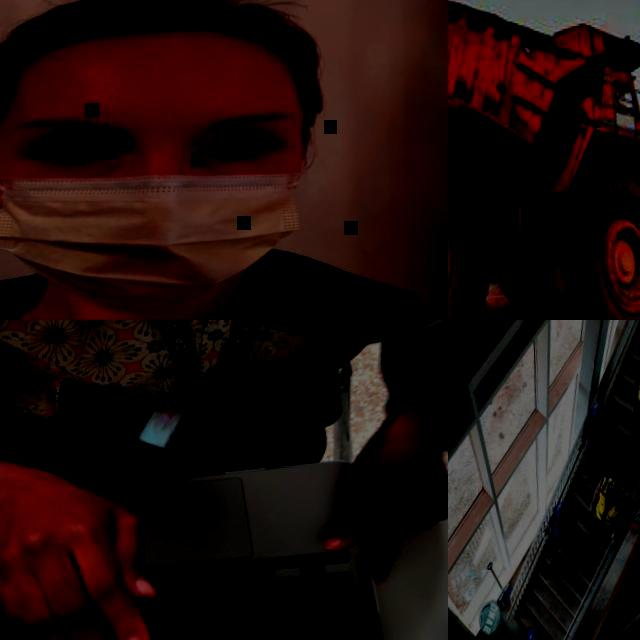helmet: (608, 478, 624, 504), (593, 402, 608, 427), (555, 503, 569, 525), (526, 632, 540, 640)
machinery: (448, 0, 640, 320)
mask: (0, 114, 321, 318)
no_helmet: (0, 0, 317, 96)
no_vest: (0, 320, 351, 417)
person: (0, 0, 448, 320), (0, 320, 448, 640), (576, 401, 622, 504), (575, 476, 632, 557), (542, 504, 580, 568), (623, 333, 640, 470), (523, 627, 546, 640)
vest: (594, 477, 631, 528), (586, 406, 616, 454), (554, 504, 576, 542)
